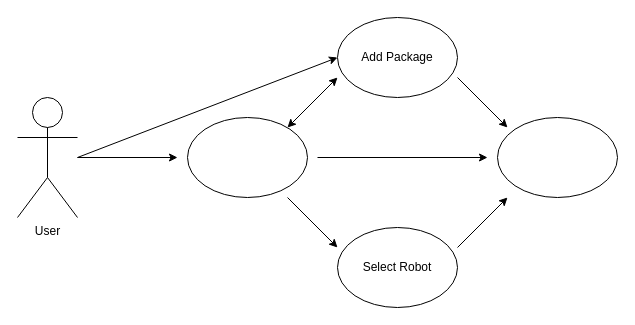
This 635x325 diagram has some shape labels left out. The centre of each missing label's shape, as x and y in pixels:
"End Simulation" belongs at (557,157).
"Start Simulation" belongs at (247,157).
